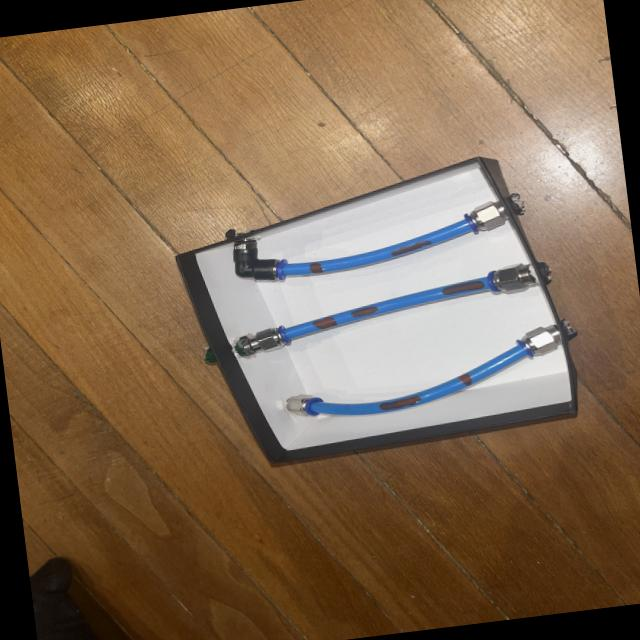hose_damage: (389, 237, 435, 258), (377, 392, 425, 412), (440, 278, 486, 297), (348, 304, 381, 318), (312, 315, 338, 331), (453, 371, 476, 388), (308, 262, 324, 274)
